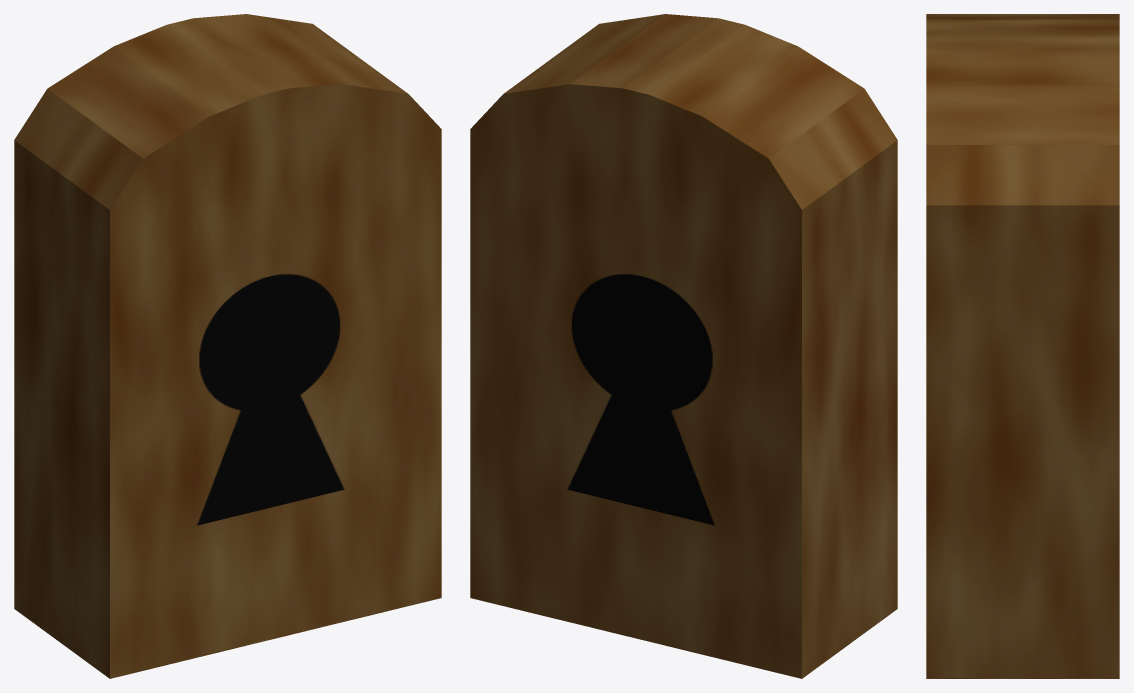
File: Door.fbx
3 renders of one model, left to right at view 1: azimuth 30°, elevation 25°; view 2: azimuth 150°, elevation 25°; view 3: azimuth 270°, elevation 25°, orthographic.
Parts seen in each view (by area): view 1: Cube; view 2: Cube; view 3: Cube.
Boxes of the visible parts, x1,y1,x2,y2 form: Cube: (14, 14, 441, 678); Cube: (470, 14, 897, 678); Cube: (926, 14, 1119, 678).
Size of the model in its own units: 400 by 630 by 200.
